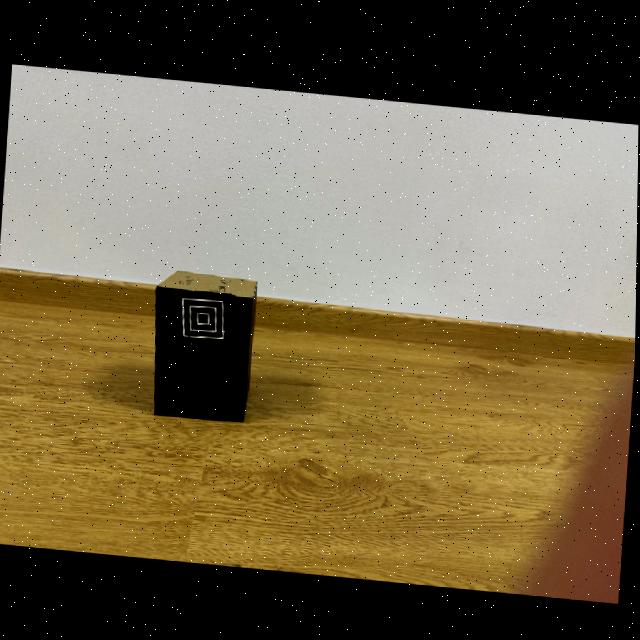BULLSEYE: (174, 289, 233, 347)
